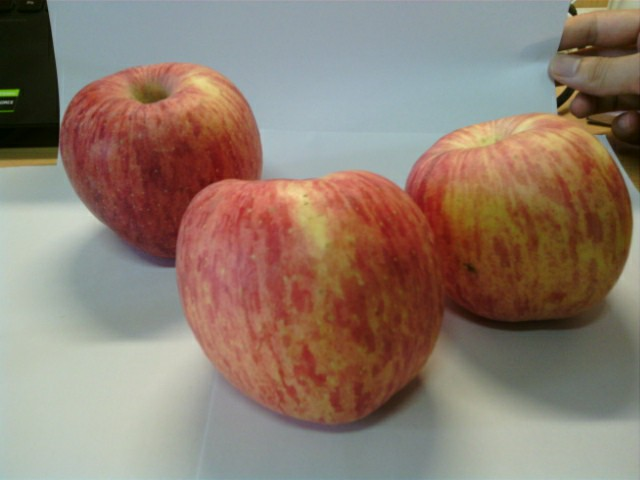normal_apple: (180, 172, 446, 426), (409, 115, 635, 330), (57, 62, 263, 270)
